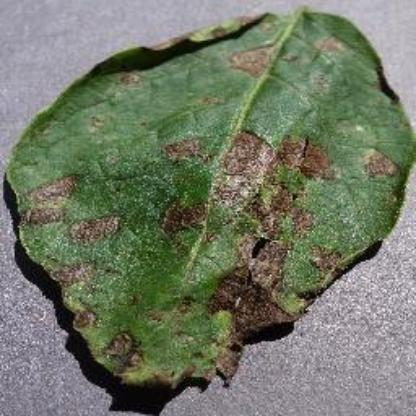Early-Blight: (3, 11, 415, 388)
